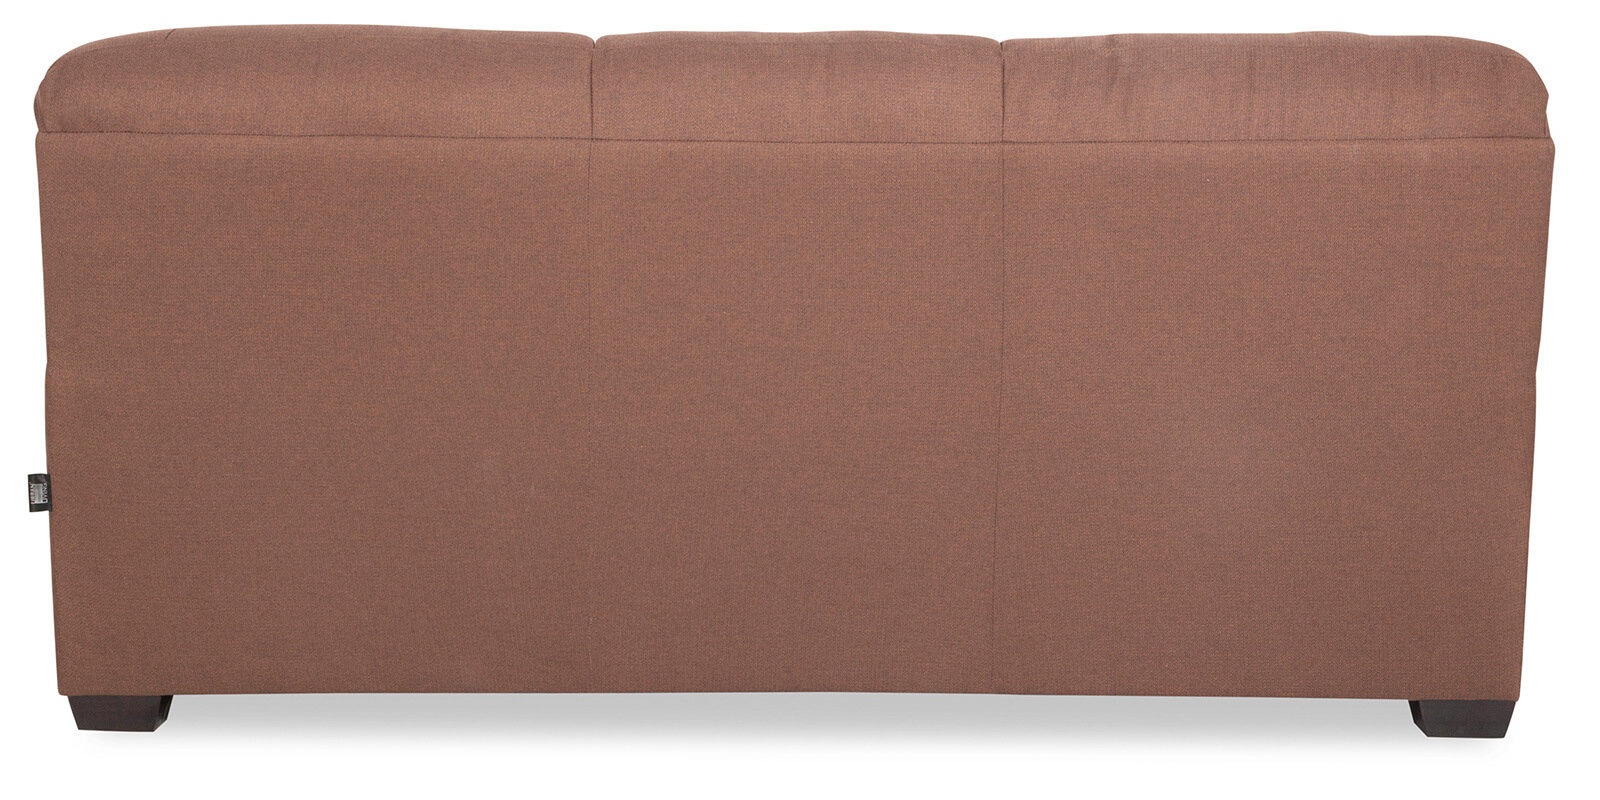Memphis Monarch Three Seater Sofa in Dark Brown Colour by Urban Living: (24, 23, 1557, 739)
